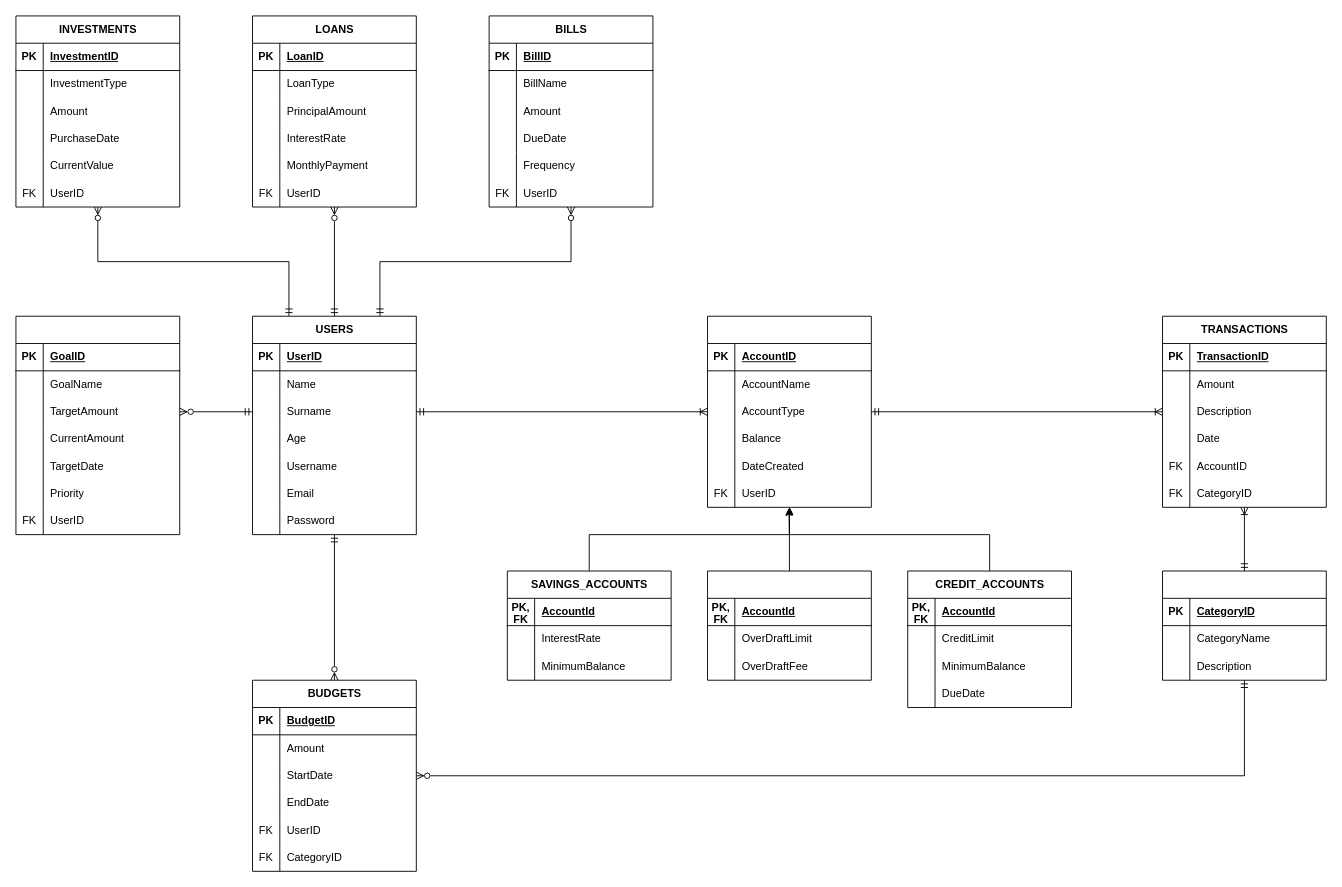
Some shapes in this 1342 by 887 pixel diagram are drawn without their labels. Here are the shapes that lost their labels. From the top down, the box of each, then its label:
(15, 315, 180, 535): GOALS
(707, 315, 871, 507): ACCOUNTS
(707, 570, 871, 680): CHECKING_ACCOUNTS
(1162, 570, 1326, 680): CATEGORIES
